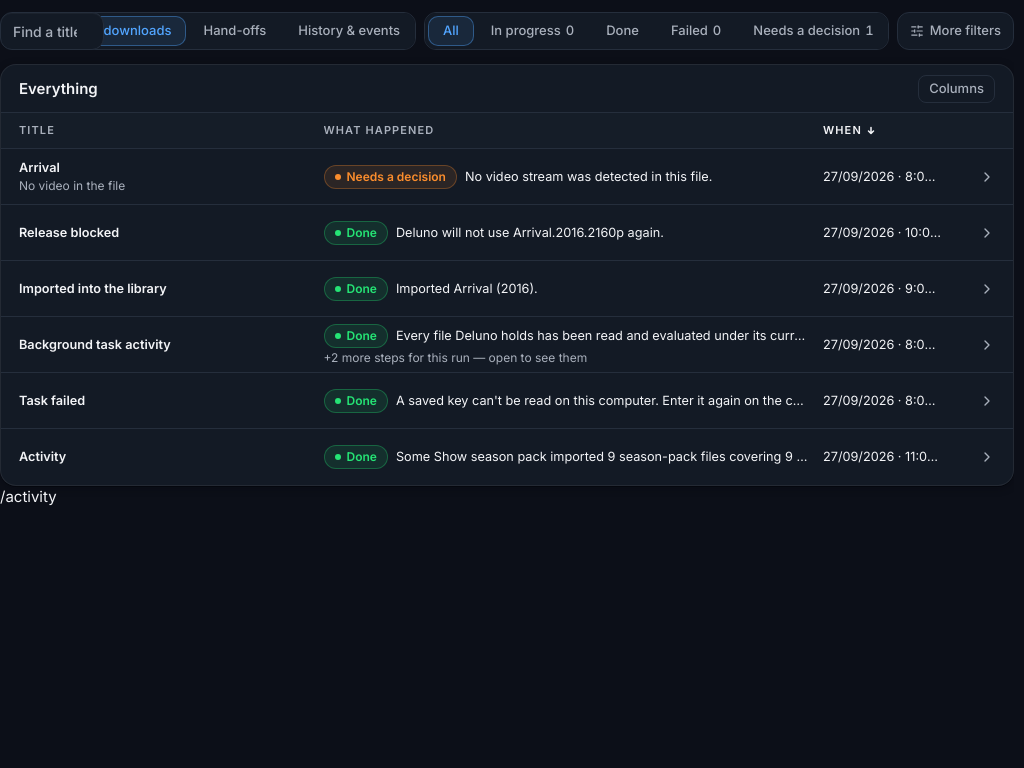
Activity history filters and columns (#798, #1100) › asks the server for the chosen kind of event and keeps the choice in the address
expect the text "Deluno will not use Arrival.2016.2160p again." is shown: met, box [396,225,664,240]
expect the text "Imported Arrival (2016)." is shown: met, box [396,281,538,296]
Click the button "More filters". click: (955, 31)
box: [897,12,1014,50]
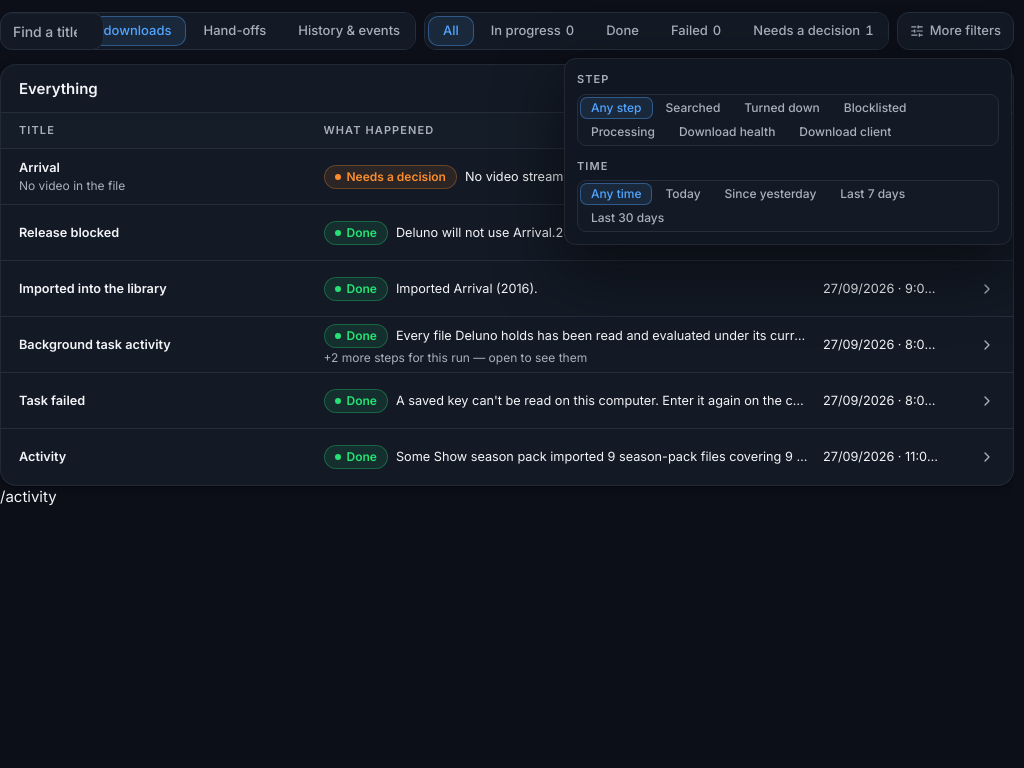
Click the radio button labelled "Blocklisted". click: (875, 108)
box: [833,96,918,118]
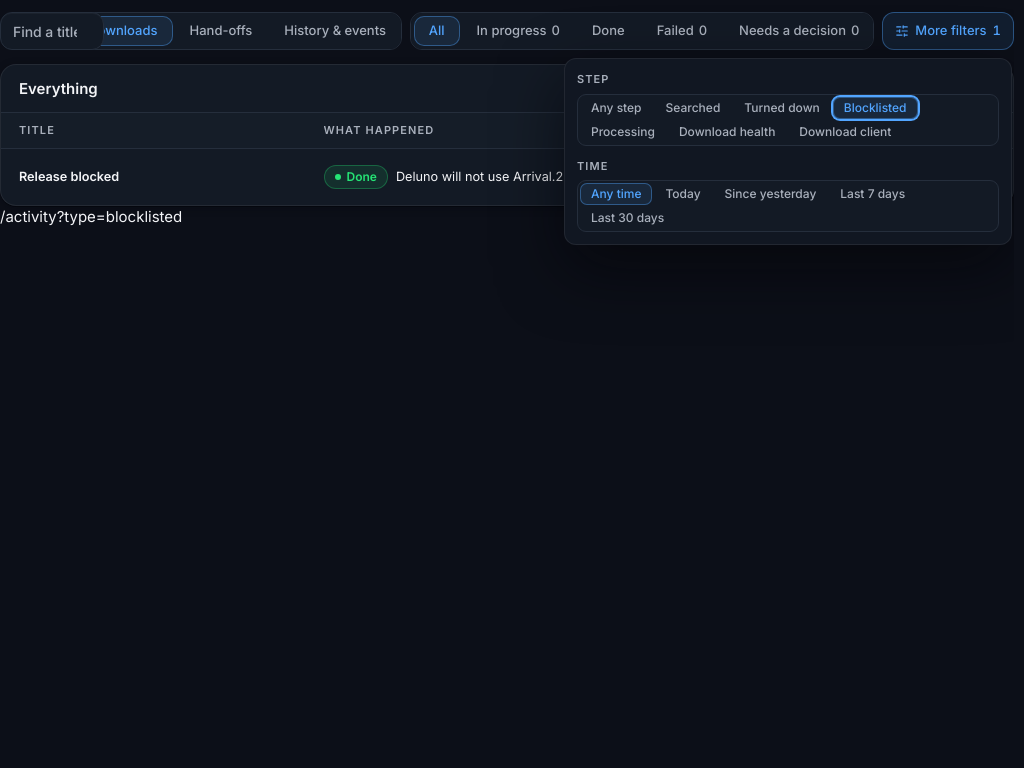
expect the text "Deluno will not use Arrival.2016.2160p again." is shown: met, box [396,169,664,185]
expect the text "Imported Arrival (2016)." is gone: met
expect the text named "address" shows "type=blocklisted": met, box [0,207,182,226]
